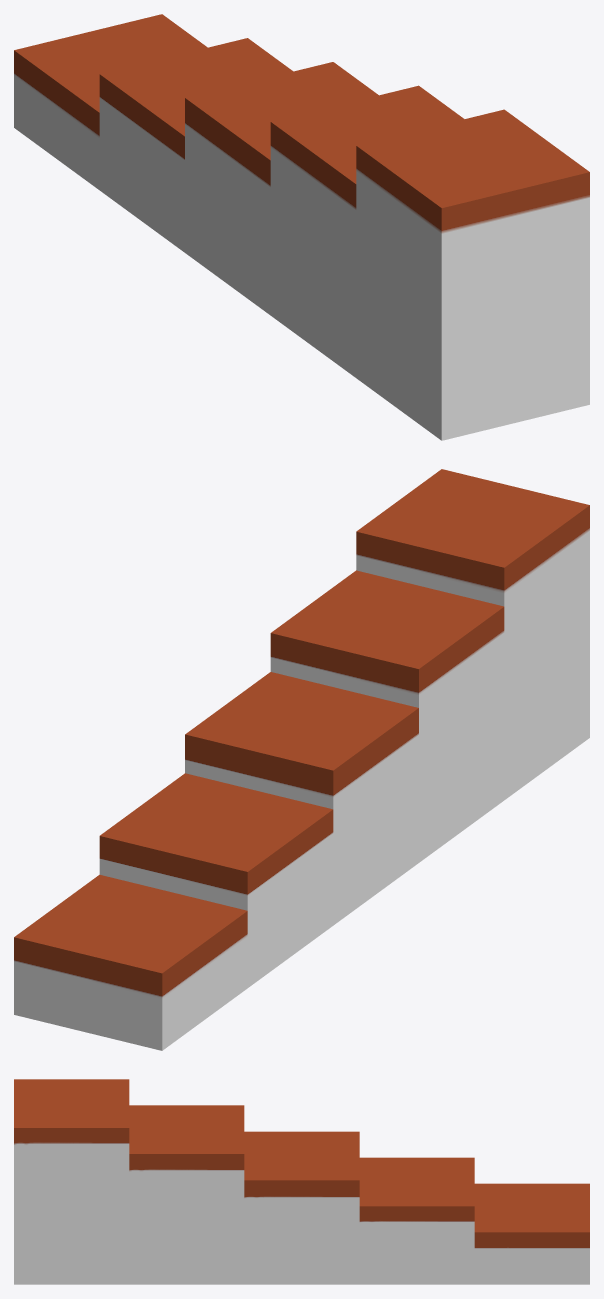
File: stairs.fbx
The picture shows the model from 3 angles, top to bottom: view 1: azimuth 30°, elevation 25°; view 2: azimuth 150°, elevation 25°; view 3: azimuth 270°, elevation 25°; orthographic projection. The views are drawn at different scales.
Parts seen in each view (by area): view 1: 立方体.003, 立方体.002, 立方体.001, 立方体, Cube; view 2: 立方体.003, 立方体.002, 立方体.001, Cube, 立方体; view 3: 立方体.003, 立方体.002, 立方体.001, 立方体, Cube.
Boxes of the visible parts, x1=… form: 立方体.003: x1=356, y1=109, x2=589, y2=440; 立方体.002: x1=270, y1=85, x2=464, y2=377; 立方体.001: x1=185, y1=62, x2=378, y2=315; 立方体: x1=99, y1=38, x2=293, y2=252; Cube: x1=14, y1=14, x2=207, y2=189; 立方体.003: x1=356, y1=469, x2=589, y2=799; 立方体.002: x1=270, y1=570, x2=504, y2=862; 立方体.001: x1=185, y1=672, x2=418, y2=925; Cube: x1=14, y1=874, x2=247, y2=1050; 立方体: x1=99, y1=773, x2=333, y2=987; 立方体.003: x1=14, y1=1079, x2=129, y2=1284; 立方体.002: x1=129, y1=1105, x2=244, y2=1284; 立方体.001: x1=244, y1=1131, x2=359, y2=1284; 立方体: x1=359, y1=1157, x2=474, y2=1284; Cube: x1=474, y1=1183, x2=589, y2=1284.
Bounding box in the file's own units: 280 × 420 × 1400.
Materials: 1 (1 with a texture image).
